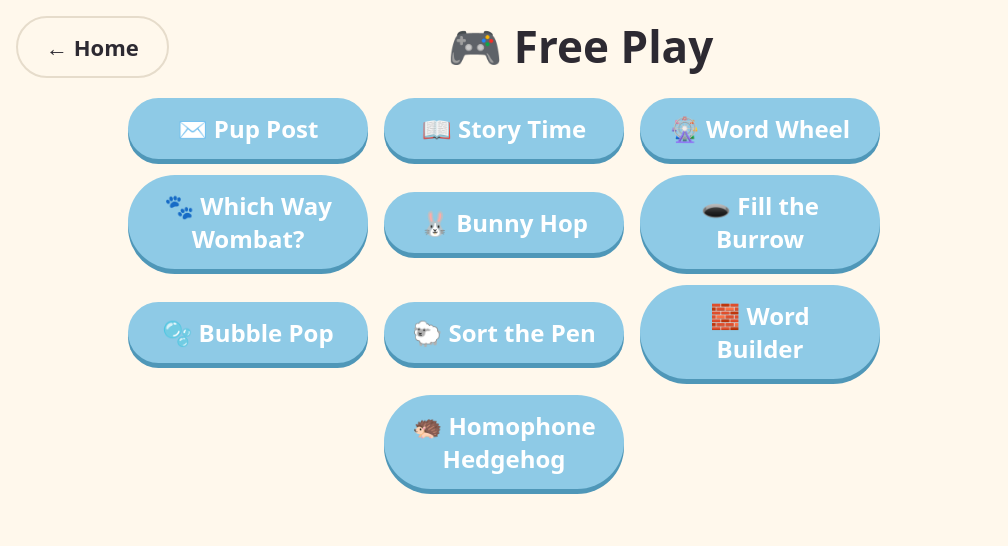
Test: FreePlay › lists games and plays one as a free session
Check: the button "🐑 Sort the Pen" is enabled, box [384,302,624,362]
Step 1. Click the button "✉️ Pup Post" → (248, 128), box [128,98,368,159]
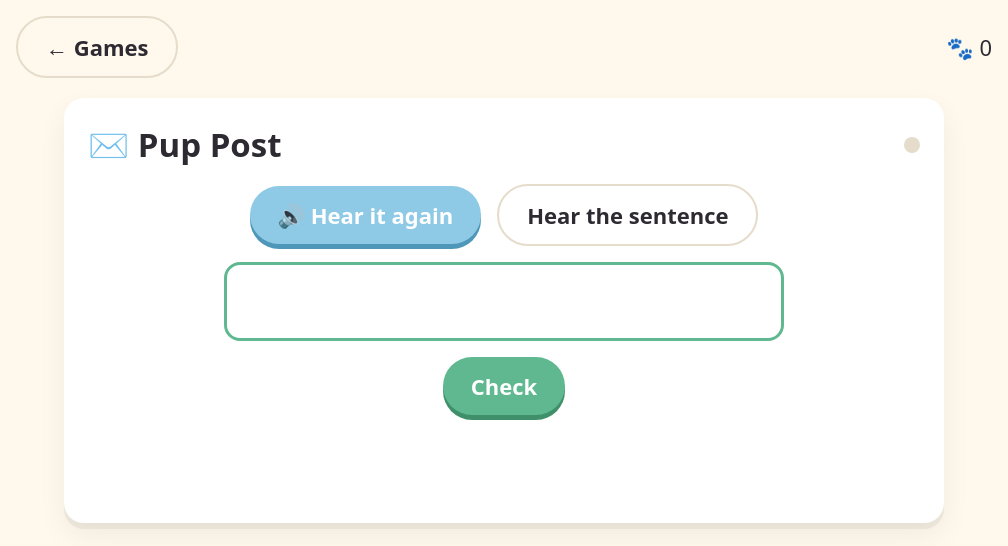
Step 2. Type "said" into the field named "Your spelling" → (504, 302), box [224,262,784,341]
Then press Enter
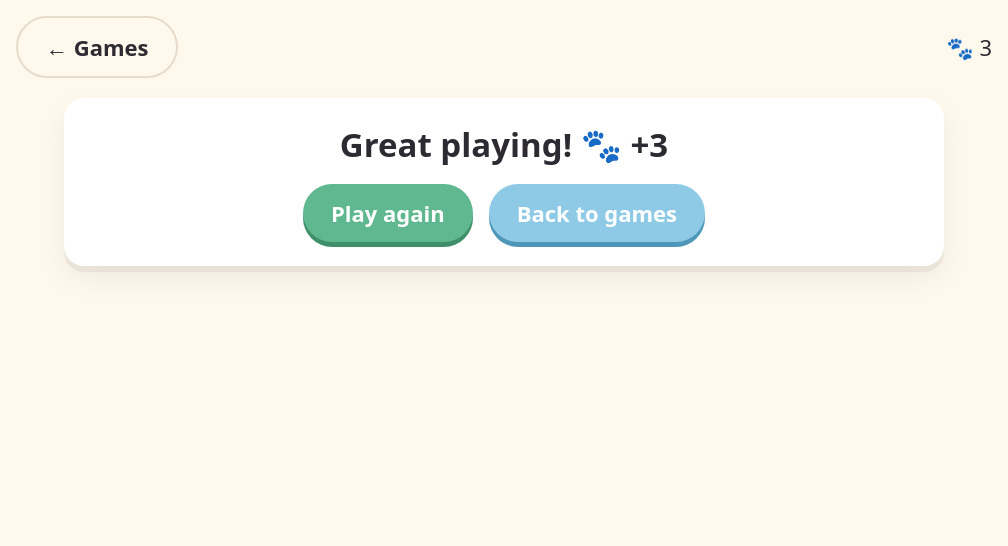
Check: the heading "Great playing! 🐾 +3" is shown, box [340,122,668,168]
